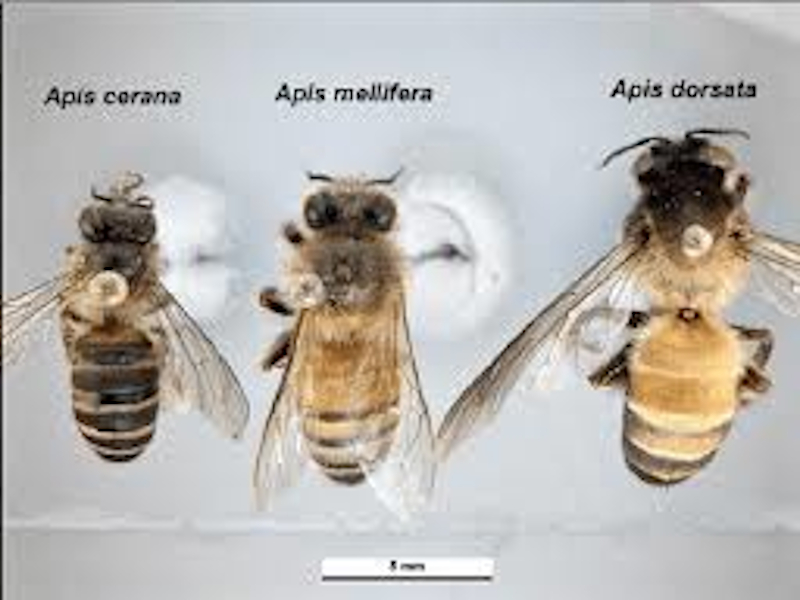abeja: (236, 144, 455, 536)
